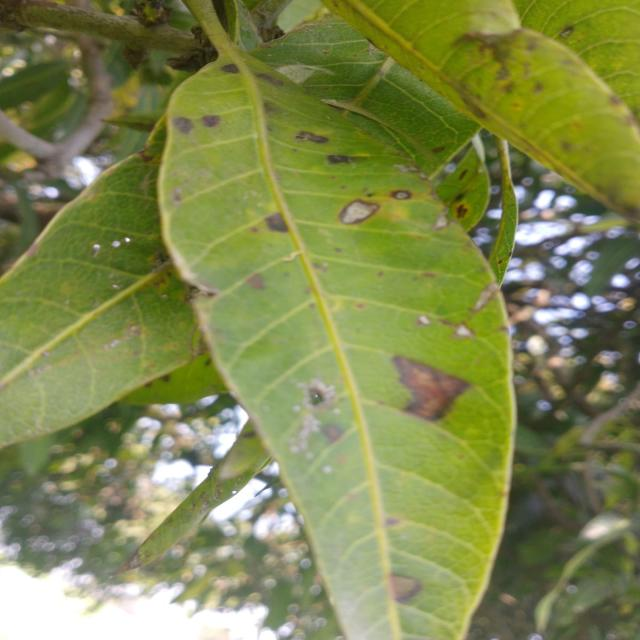Anthracnose: (389, 359, 473, 413), (174, 105, 222, 136), (340, 196, 381, 228), (295, 124, 329, 145), (268, 212, 290, 235)
Powdery Mildew: (285, 63, 316, 81)
